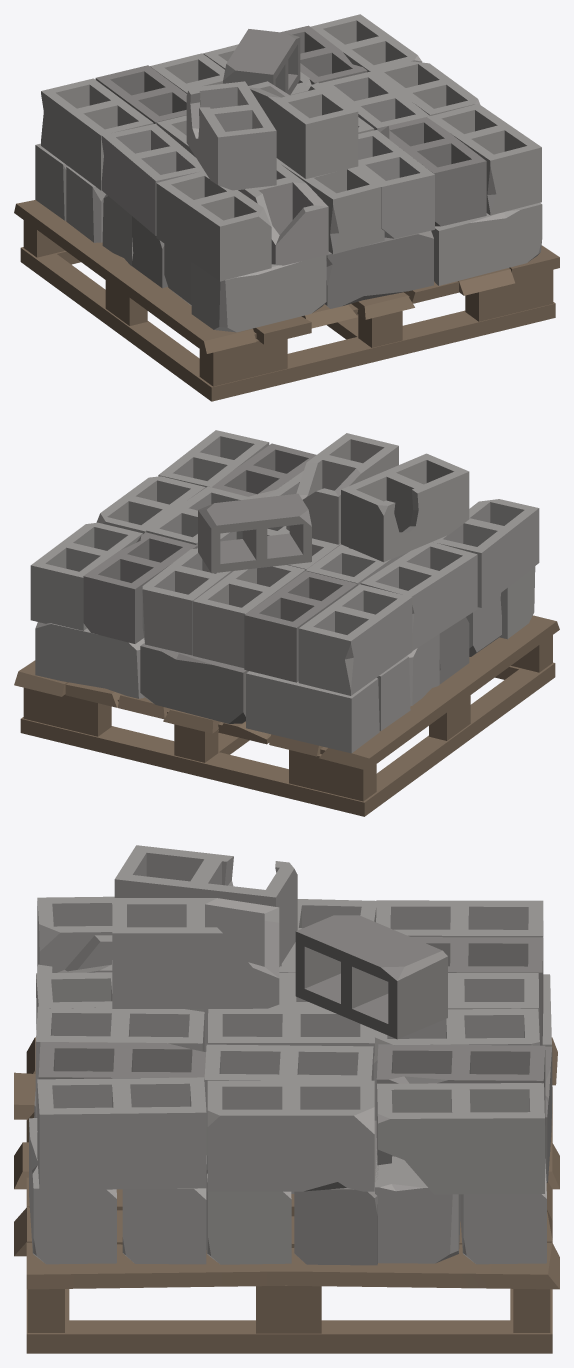
The model's file is SM_Prop_Construction_Blocks_02.obj.
The picture shows the model from 3 angles, top to bottom: view 1: azimuth 30°, elevation 25°; view 2: azimuth 150°, elevation 25°; view 3: azimuth 270°, elevation 25°; orthographic projection. The views are drawn at different scales.
Visible parts, largest first — view 1: SM_Prop_Construction_Blocks_02_0; view 2: SM_Prop_Construction_Blocks_02_0; view 3: SM_Prop_Construction_Blocks_02_0.
Part boxes in pixels (<box>): SM_Prop_Construction_Blocks_02_0: <box>14,14,559,401</box>; SM_Prop_Construction_Blocks_02_0: <box>14,430,559,816</box>; SM_Prop_Construction_Blocks_02_0: <box>14,845,559,1353</box>.
Bounding box in the file's own units: 1.46 × 0.884 × 1.42.
Materials: 1 (1 with a texture image).
